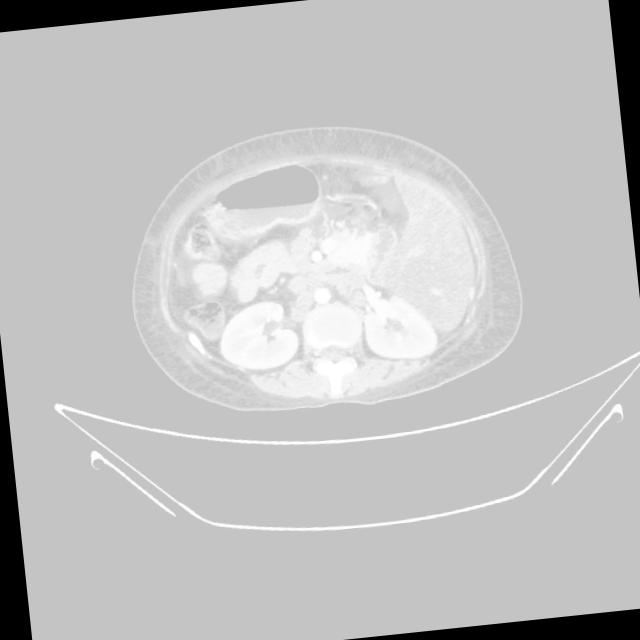NORMAL: (124, 94, 548, 405)
